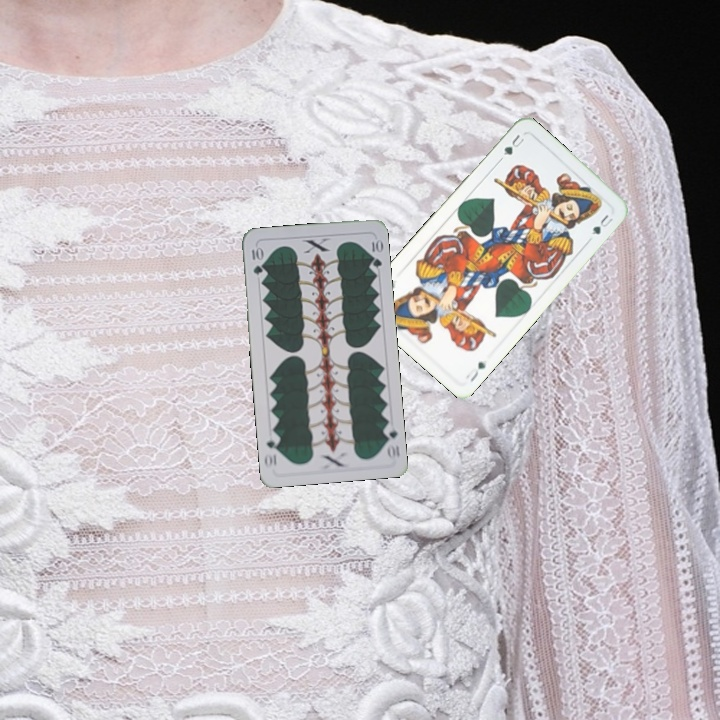G10: (380, 420, 402, 461), (248, 243, 265, 277)
GU: (499, 130, 527, 158), (462, 358, 489, 385)
